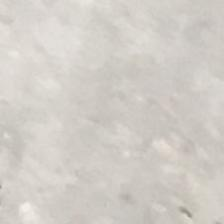Non_Crack: (4, 5, 193, 224)
